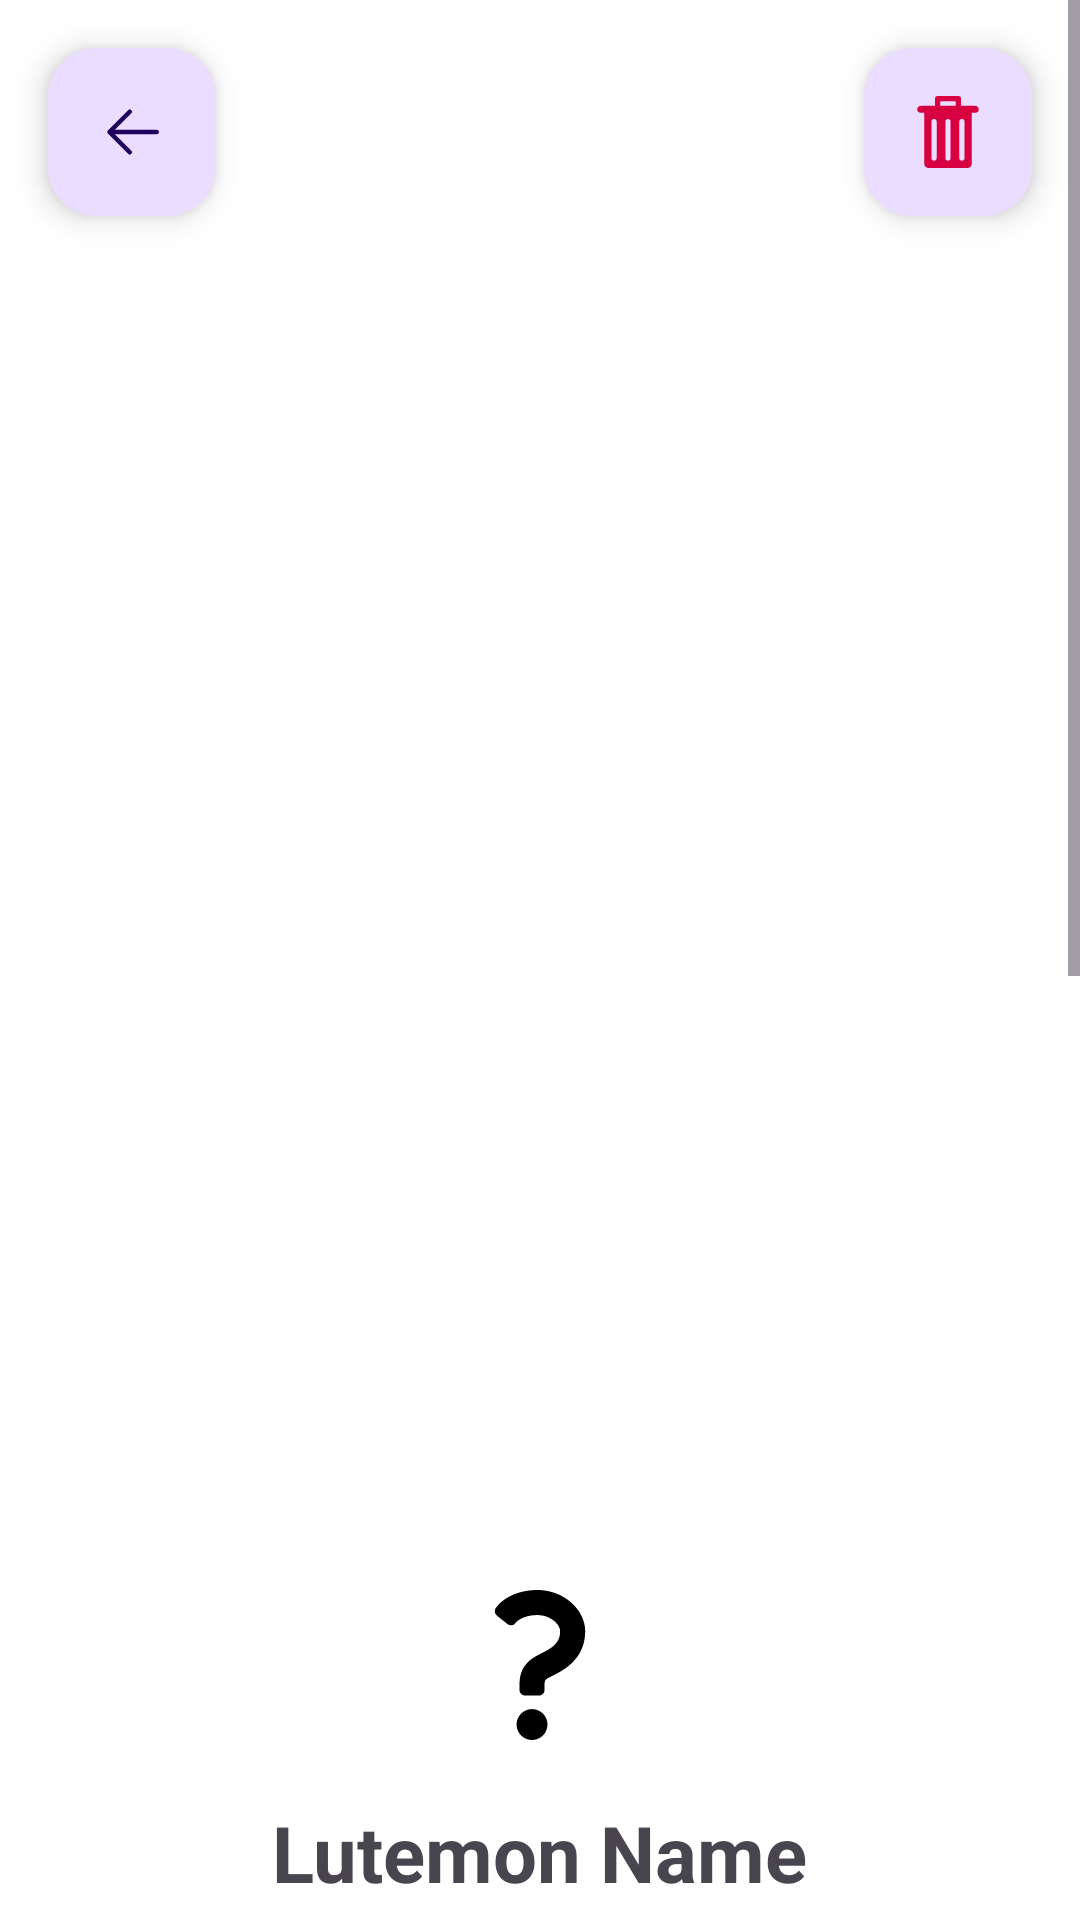

Where icons sit on this 1080w x 1920h app screen, as (x1, y1, x2, y2):
Back to lutemon list: (48, 48, 216, 216)
Delete lutemon: (917, 96, 979, 168)
element not found: (494, 1590, 586, 1740)
